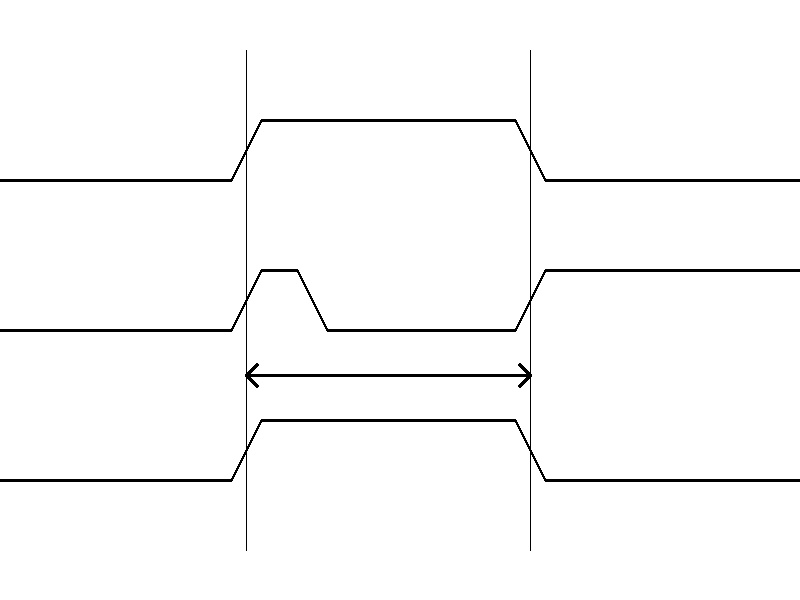double_arrow: (246, 360, 530, 390)
